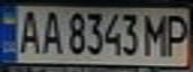3: (81, 10, 106, 56), (118, 10, 142, 57)
4: (103, 10, 124, 56)
8: (63, 9, 87, 55)
A: (12, 7, 45, 54), (36, 8, 63, 55)
M: (139, 10, 172, 57)
P: (160, 10, 193, 57)
